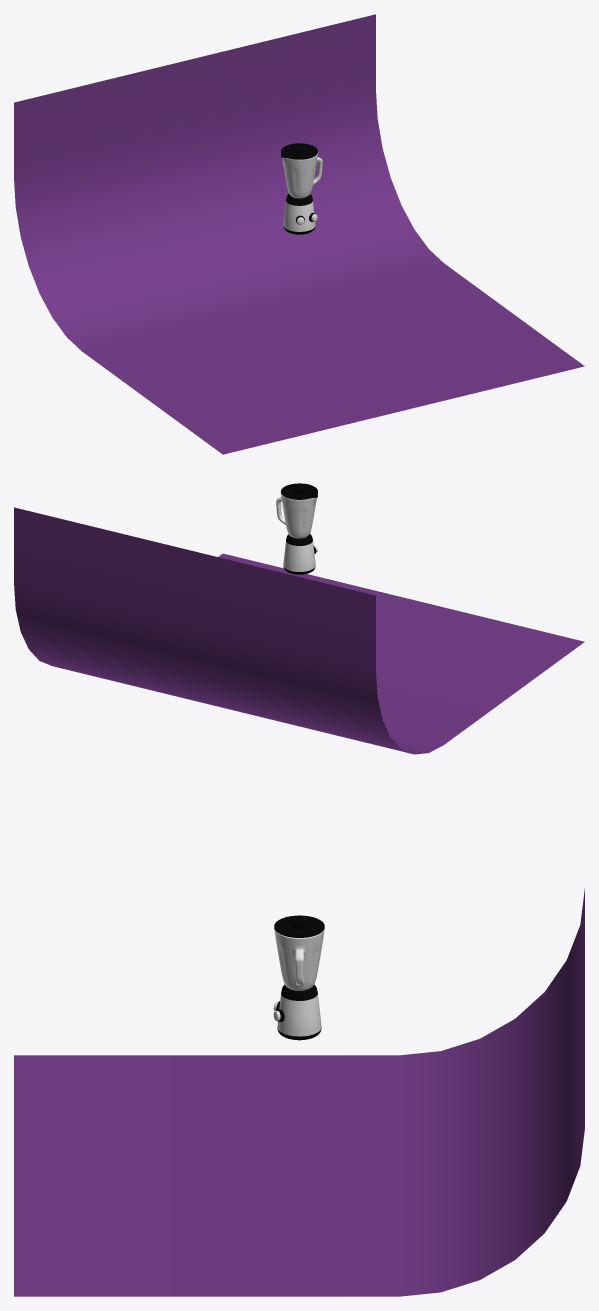
File: juicerTwoButtons.fbx
3 renders of one model, top to bottom at view 1: azimuth 30°, elevation 25°; view 2: azimuth 150°, elevation 25°; view 3: azimuth 270°, elevation 25°, orthographic. The views are drawn at different scales.
Parts seen in each view (by area): view 1: Plane, tutup, mesin; view 2: Plane, tutup, mesin, tutup.001; view 3: Plane, tutup, mesin, tutup.001.
Part boxes in pixels (x1=…): Plane: x1=14, y1=14, x2=584, y2=454; tutup: x1=282, y1=152, x2=322, y2=198; mesin: x1=283, y1=194, x2=315, y2=234; Plane: x1=14, y1=507, x2=584, y2=754; tutup: x1=276, y1=492, x2=316, y2=538; mesin: x1=283, y1=534, x2=315, y2=574; tutup.001: x1=281, y1=483, x2=317, y2=499; Plane: x1=14, y1=889, x2=584, y2=1296; tutup: x1=274, y1=929, x2=324, y2=990; mesin: x1=277, y1=984, x2=321, y2=1040; tutup.001: x1=274, y1=915, x2=324, y2=937.
Bounding box in the file's own units: 861 × 453 × 861.
